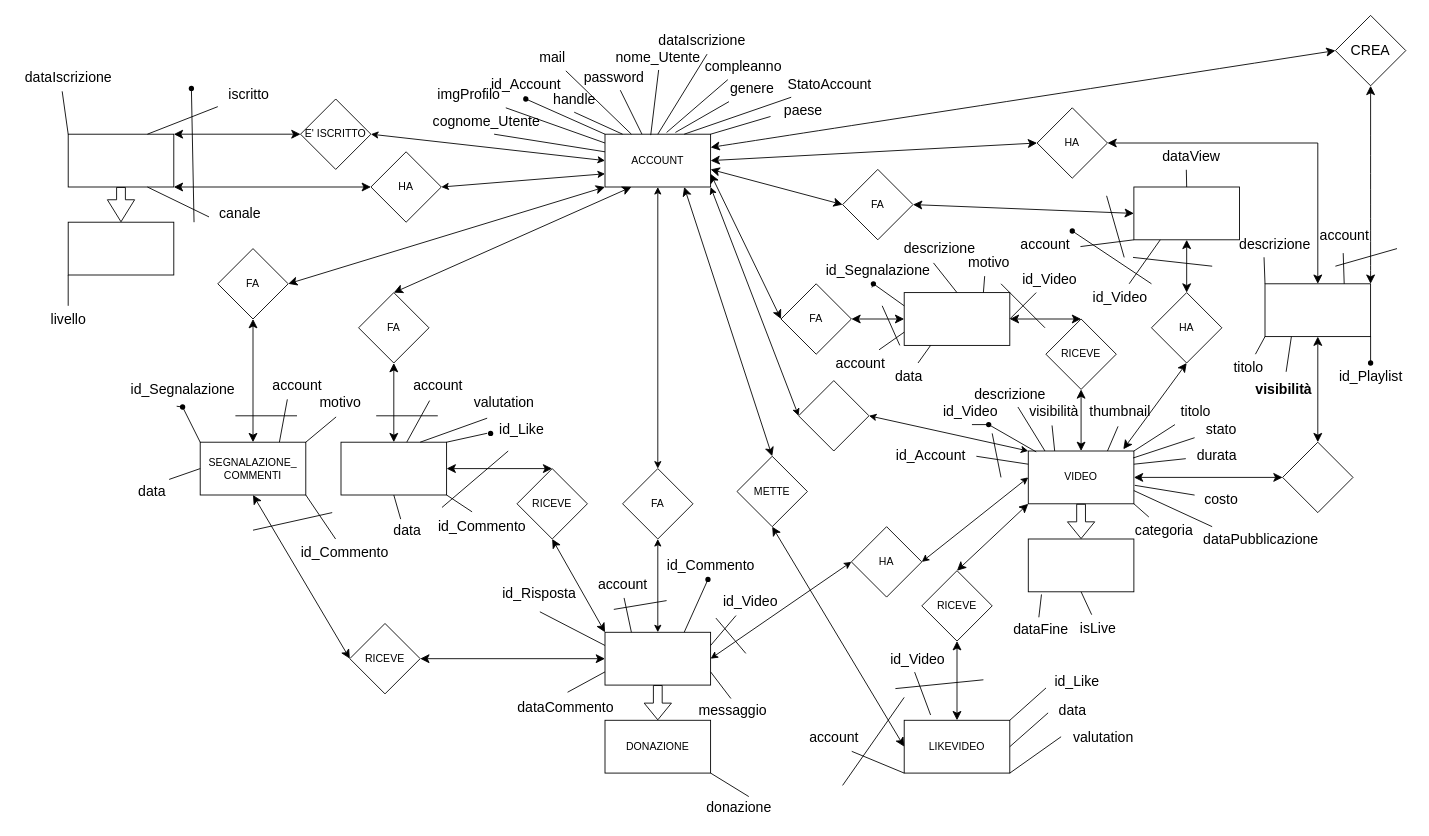
Image size: 1429x836. Some labels were removed from this diagram. The centre of each missing label's shape, as x and y in pixels:
ABBONAMENTO: point 120,248
APPARTIENE: point 833,415
COMMENTO: point 657,658
E' SALVATO: point 1317,477
ISCRIZIONE: point 120,160
LIKECOMMENTI: point 393,468
LIVE: point 1080,565
PLAYLIST: point 1317,310
SEGNALAZIONE_ VIDEO: point 956,318
VIEWS: point 1186,213
